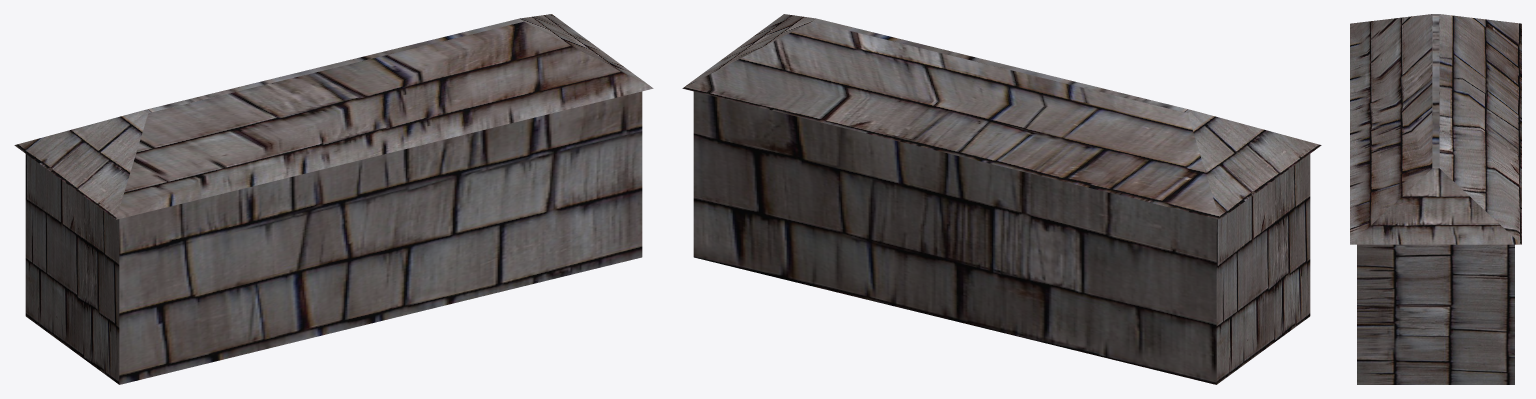
File: BigHouse.obj
3 renders of one model, left to right at view 1: azimuth 30°, elevation 25°; view 2: azimuth 150°, elevation 25°; view 3: azimuth 270°, elevation 25°, orthographic. The views are drawn at different scales.
Visible parts, largest first — view 1: BigHouse; view 2: BigHouse; view 3: BigHouse.
Boxes of the visible parts, left/top/right/bottom form: BigHouse: left=14, top=14, right=653, bottom=384; BigHouse: left=682, top=14, right=1321, bottom=384; BigHouse: left=1350, top=14, right=1521, bottom=384.
Size of the model in its own units: 166 by 65 by 54.33.
